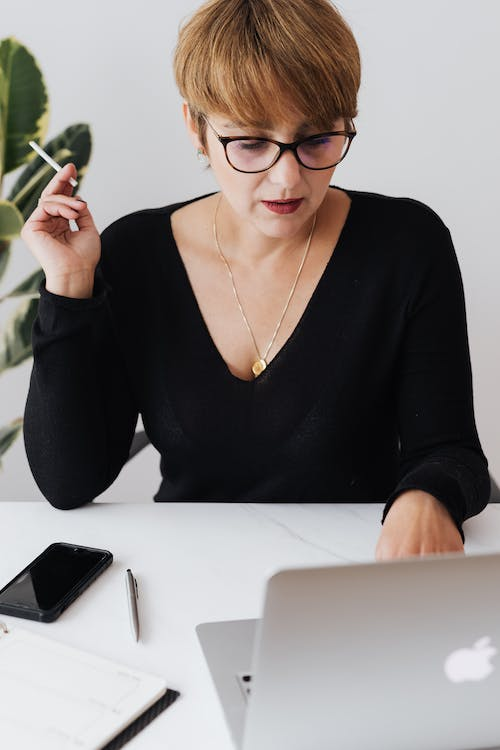cigarette: (26, 138, 80, 189)
